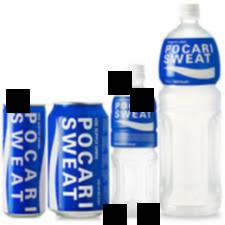pocarisweat: (111, 62, 157, 217)
